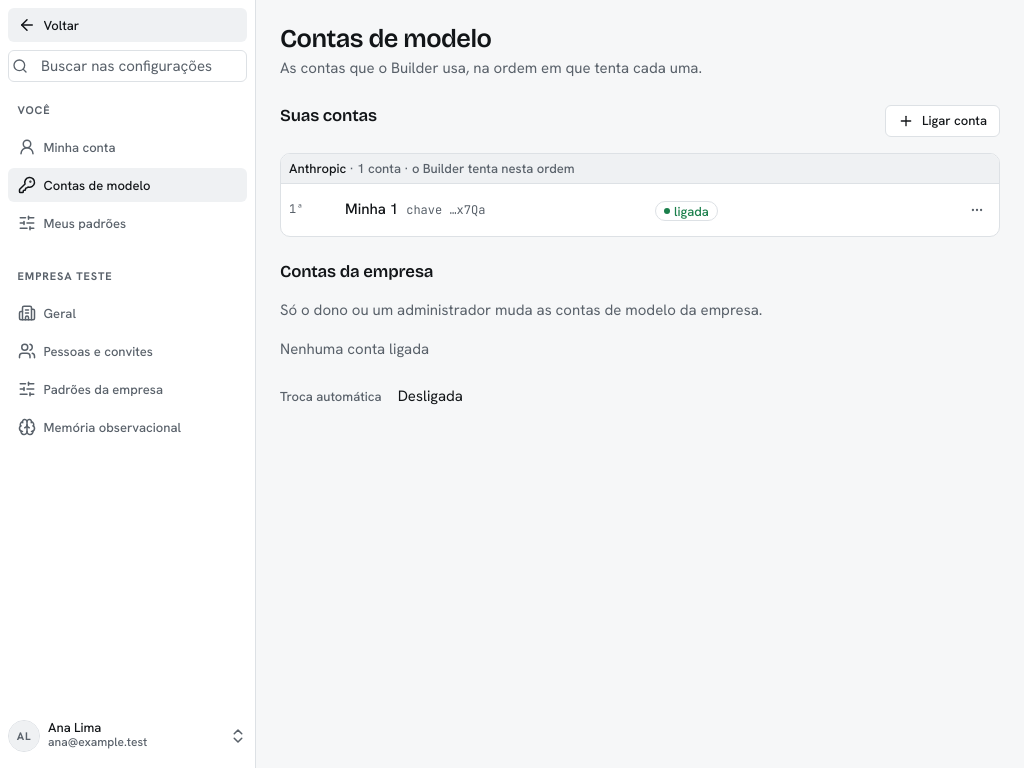
Test case: quem só lê a empresa liga, pausa e remove as próprias contas
This screenshot has width=1024, height=768.
Expected: the heading "Suas contas" is shown, [280, 105, 377, 126]
What coordinates should you click on to do the following:
click the button named "Mais ações para Minha 1"
I would click on:
 (977, 210)
Its box is [963, 196, 991, 224].
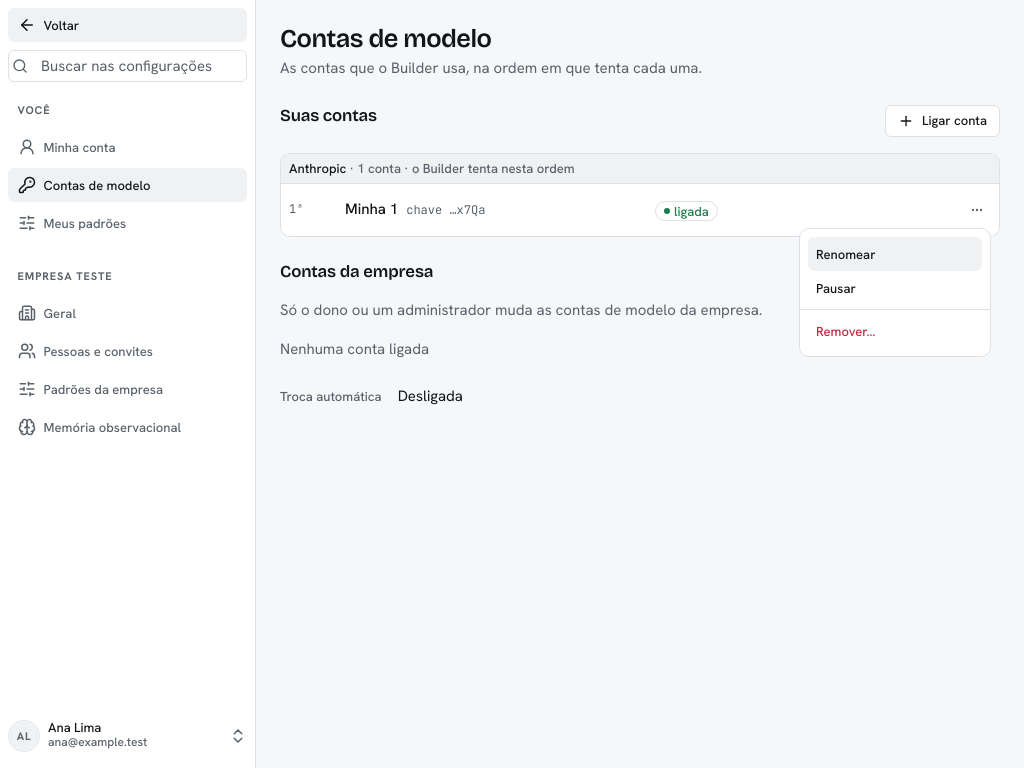
What coordinates should you click on to do the following:
click the menu item "Pausar"
I would click on:
 (836, 288)
Its box is [816, 280, 856, 296].
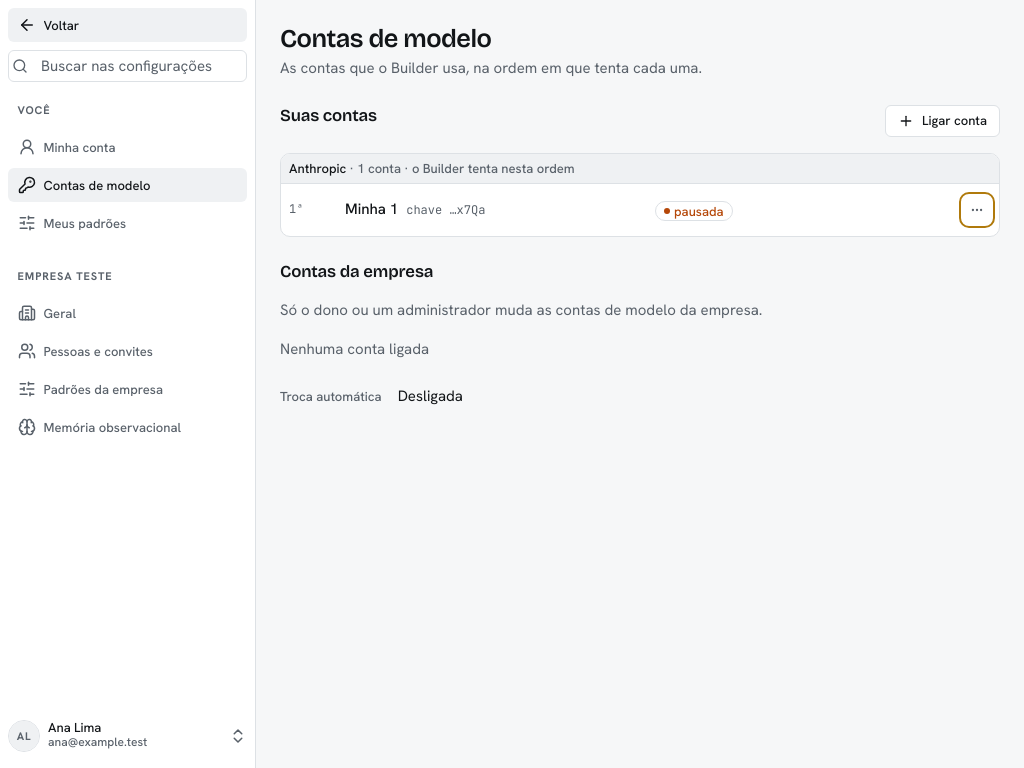
Result: the text "pausada" is shown at [655, 201, 733, 221]
What coordinates should you click on to do the following:
click the button named "Mais ações para Minha 1"
I would click on:
 (977, 210)
Its box is [963, 196, 991, 224].
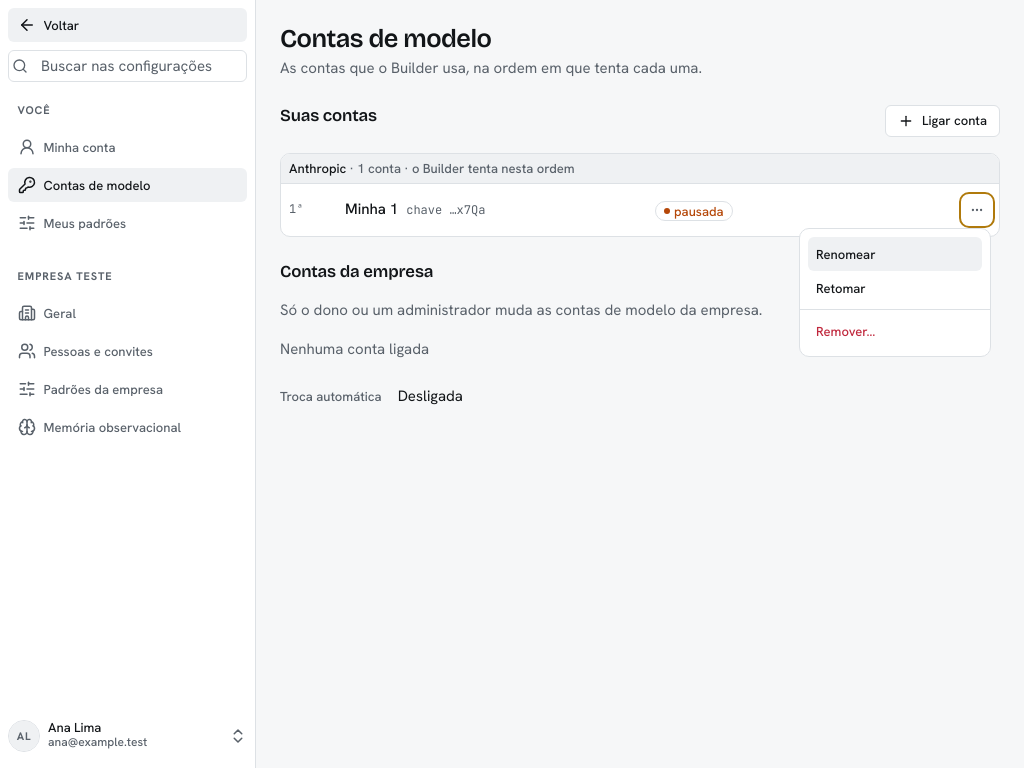
What coordinates should you click on to do the following:
click the menu item "Remover…"
I would click on:
 (846, 331)
Its box is [816, 322, 875, 340].
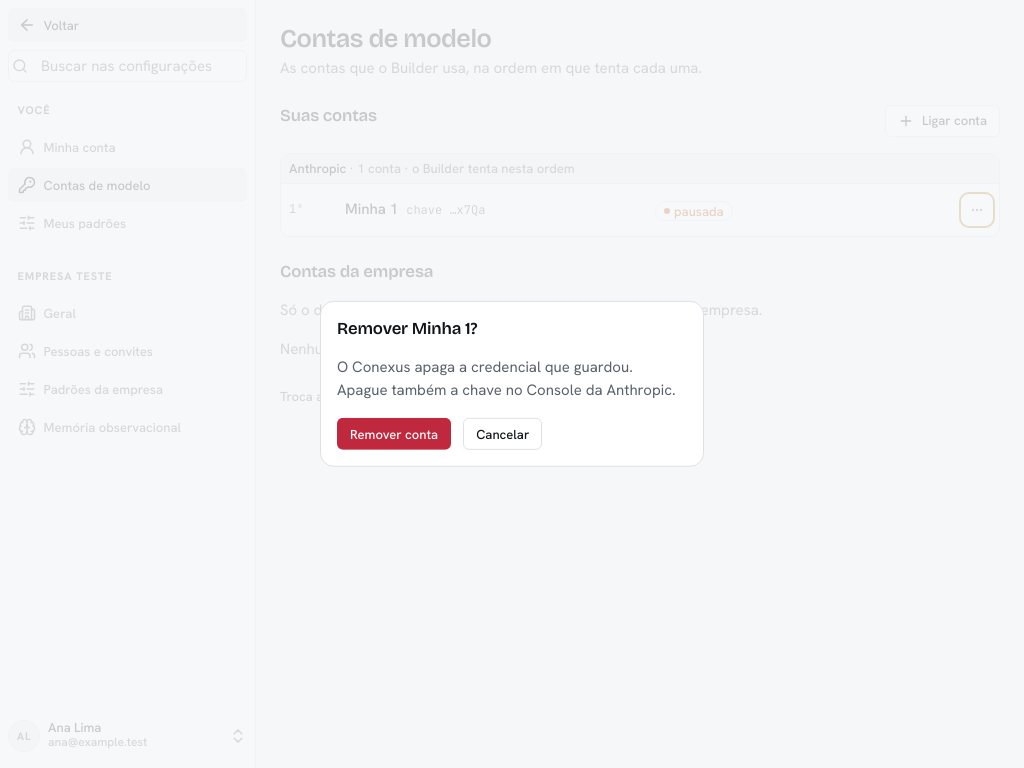
What coordinates should you click on to do the following:
click the button "Remover conta"
I would click on:
 (394, 434)
Its box is [337, 418, 451, 450].
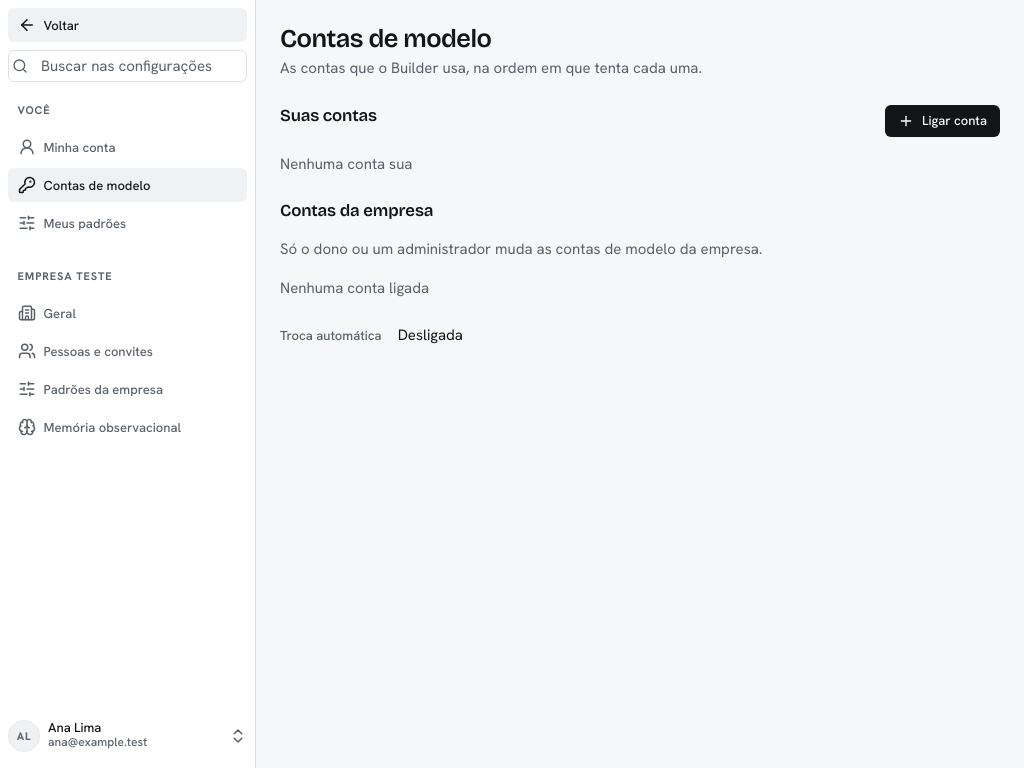
Result: the text "Nenhuma conta sua" is shown at [280, 154, 412, 174]
